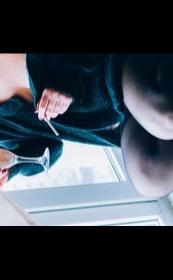Cigarette: (36, 111, 59, 136)
